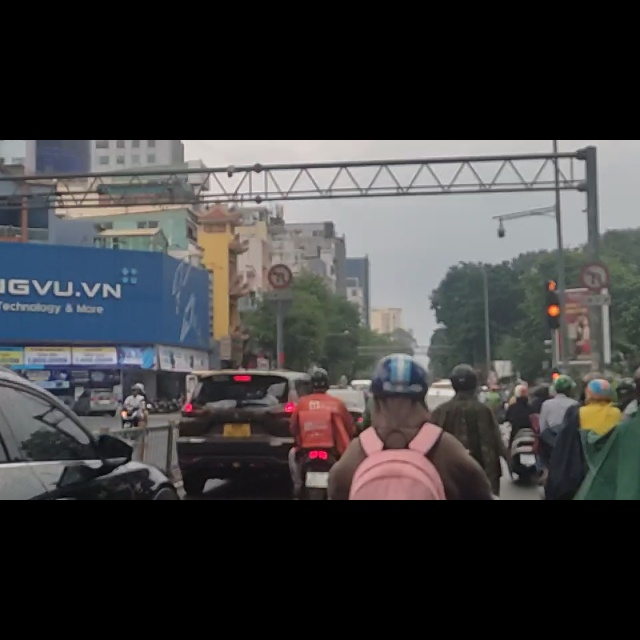Cấm quay đầu và rẽ trái: (579, 262, 608, 291), (265, 262, 293, 287)
